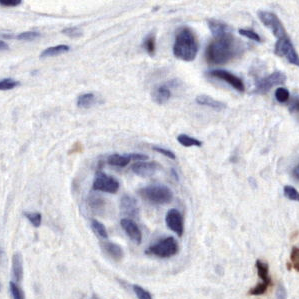Lymphocyte: (251, 256, 276, 295)
